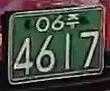0: (34, 16, 51, 33)
1: (61, 31, 75, 72)
4: (14, 36, 34, 75)
6: (34, 34, 56, 73), (51, 14, 65, 32)
7: (78, 30, 99, 67)
주: (66, 13, 81, 31)
